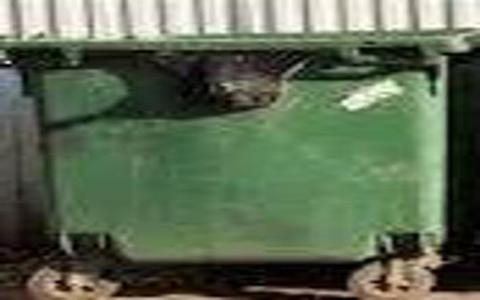Proper garbage: (1, 11, 453, 299)
